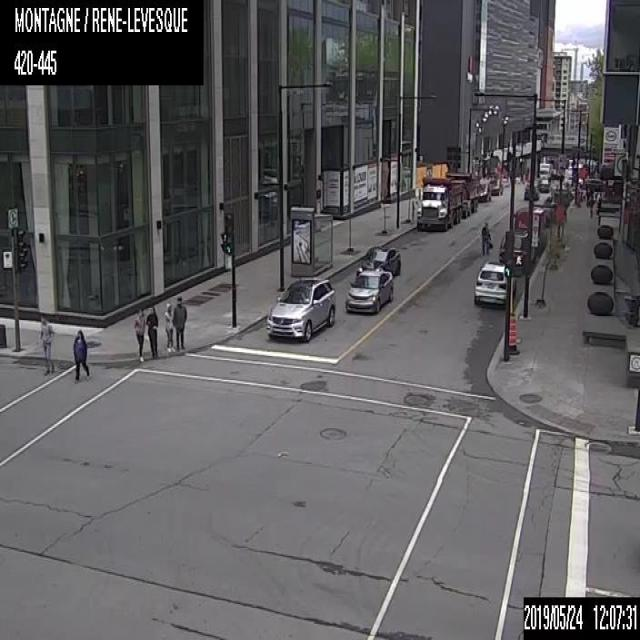construction: (506, 310, 518, 354)
pedestrian: (38, 318, 56, 371), (73, 329, 89, 380), (174, 294, 188, 348), (132, 305, 144, 363), (146, 305, 158, 358), (163, 299, 173, 352), (479, 220, 491, 255)
vehicle: (266, 275, 336, 340), (414, 177, 464, 230), (346, 270, 392, 314), (355, 244, 401, 284), (514, 206, 546, 256), (473, 263, 511, 305), (501, 228, 534, 270), (446, 171, 477, 213), (537, 161, 553, 180), (488, 177, 503, 195), (524, 182, 537, 200), (478, 181, 489, 201), (537, 177, 551, 191)
